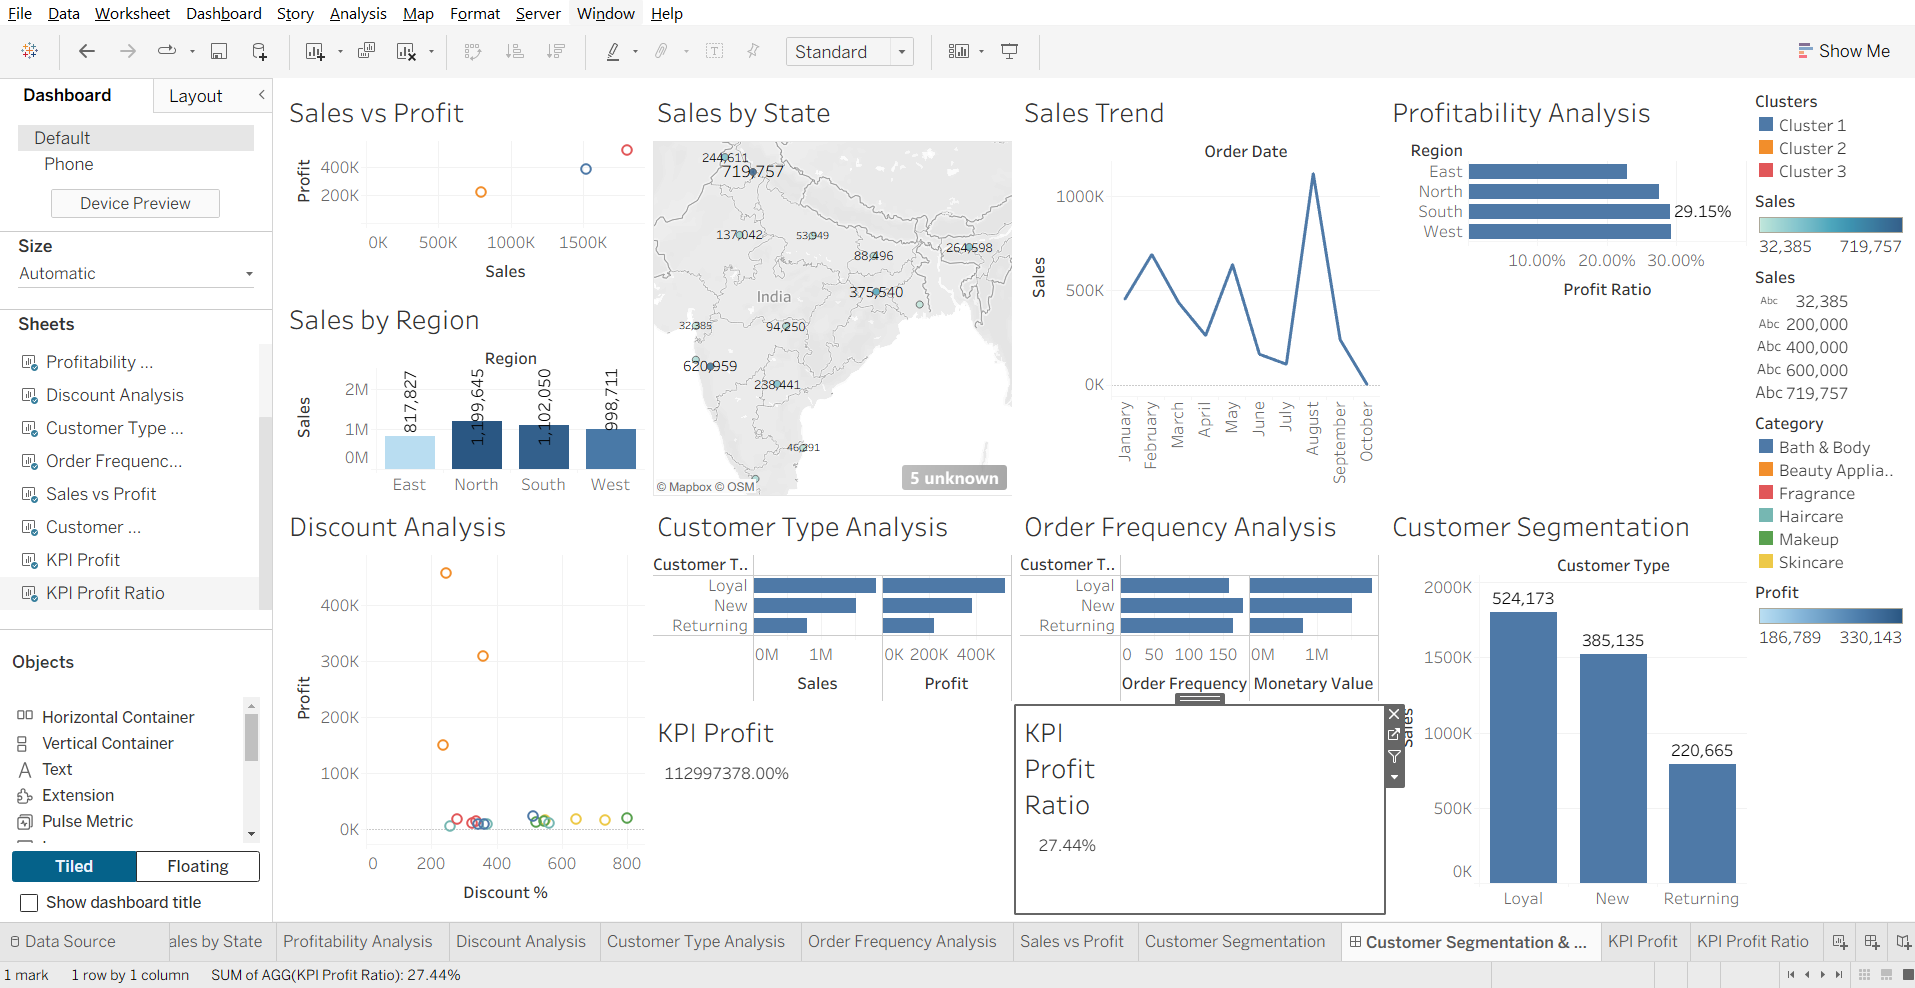

What the dashboard file says about the page in this screenshot:
{"tool":"tableau","page":{"name":"Customer Segmentation & Behavior Analysis","canvas":[1000,1000],"units":"permille","ordinal":0},"visuals":[{"type":"worksheet","title":"Sales vs Profit","mark":"Automatic","rows":["Profit"],"cols":["Sales"],"box":[4.9,9.5,223.3,245.3]},{"type":"worksheet","title":"Sales by State","mark":"Multipolygon","box":[228.1,9.5,223.3,490.5]},{"type":"worksheet","title":"Sales Trend","mark":"Automatic","rows":["Sales"],"cols":["Order Date"],"box":[451.4,9.5,223.3,490.5]},{"type":"worksheet","title":"Profitability Analysis","mark":"Automatic","rows":["Region"],"cols":["Calculation_1360147783409664"],"box":[674.7,9.5,223.3,490.5]},{"type":"legend","title":"Sales vs Profit","param":"[federated.14pag8r0vjaiq017slw7511c9ww9].[usr:Calculation_1360147787735046:nk]","box":[897.9,9.5,97.2,64.1]},{"type":"legend","title":"Sales by State","param":"[federated.14pag8r0vjaiq017slw7511c9ww9].[sum:Sales:qk]","box":[897.9,73.5,97.2,90.2]},{"type":"legend","title":"Sales by State","param":"[federated.14pag8r0vjaiq017slw7511c9ww9].[sum:Sales:qk]","box":[897.9,163.7,97.2,173.2]},{"type":"worksheet","title":"Sales by Region","mark":"Automatic","rows":["Sales"],"cols":["Region"],"box":[4.9,254.8,223.3,245.2]},{"type":"legend","title":"Discount Analysis","param":"[federated.14pag8r0vjaiq017slw7511c9ww9].[none:Category:nk]","box":[897.9,336.9,97.2,200.5]},{"type":"worksheet","title":"Discount Analysis","mark":"Automatic","rows":["Profit"],"cols":["Discount %"],"box":[4.9,500,223.3,490.5]},{"type":"worksheet","title":"Customer Type Analysis","mark":"Automatic","rows":["Customer Type"],"cols":["Sales","Profit"],"box":[228.1,500,223.3,490.5]},{"type":"worksheet","title":"Order Frequency Analysis","mark":"Automatic","rows":["Customer Type"],"cols":["Calculation_1360147786813443","Calculation_1360147787022340"],"box":[451.4,500,223.3,490.5]},{"type":"worksheet","title":"Customer Segmentation","mark":"Automatic","rows":["Sales"],"cols":["Customer Type"],"box":[674.7,500,223.3,490.5]},{"type":"legend","title":"Sales by Region","param":"[federated.14pag8r0vjaiq017slw7511c9ww9].[sum:Profit:qk]","box":[897.9,537.4,97.2,90.2]}]}

Visuals, with their boxes on the dashboard's canvas, which has no fixed pixel size, in thousandths of its width and height (x1, y1, x2, y2). These are canvas units, not pixel positions in the 1915x988 screenshot, which may show the page scaled, cropped or inside an application window:
"Sales vs Profit" worksheet: rect(5, 10, 228, 255)
"Sales by State" worksheet (Multipolygon marks): rect(228, 10, 451, 500)
"Sales Trend" worksheet: rect(451, 10, 675, 500)
"Profitability Analysis" worksheet: rect(675, 10, 898, 500)
"Sales vs Profit" legend: rect(898, 10, 995, 74)
"Sales by State" legend: rect(898, 74, 995, 164)
"Sales by State" legend: rect(898, 164, 995, 337)
"Sales by Region" worksheet: rect(5, 255, 228, 500)
"Discount Analysis" legend: rect(898, 337, 995, 537)
"Discount Analysis" worksheet: rect(5, 500, 228, 990)
"Customer Type Analysis" worksheet: rect(228, 500, 451, 990)
"Order Frequency Analysis" worksheet: rect(451, 500, 675, 990)
"Customer Segmentation" worksheet: rect(675, 500, 898, 990)
"Sales by Region" legend: rect(898, 537, 995, 628)
